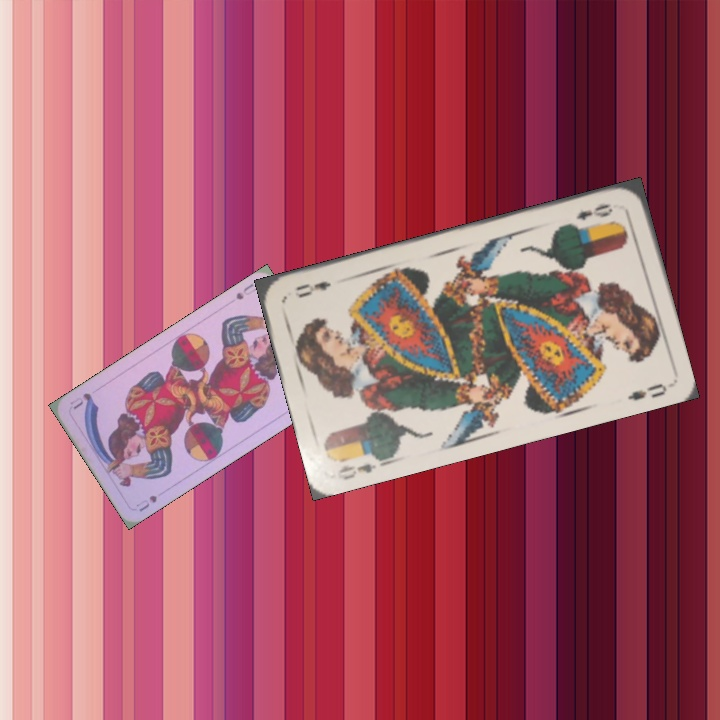EO: (333, 448, 390, 483), (572, 199, 615, 223)
SU: (132, 491, 160, 515), (231, 279, 260, 302)
